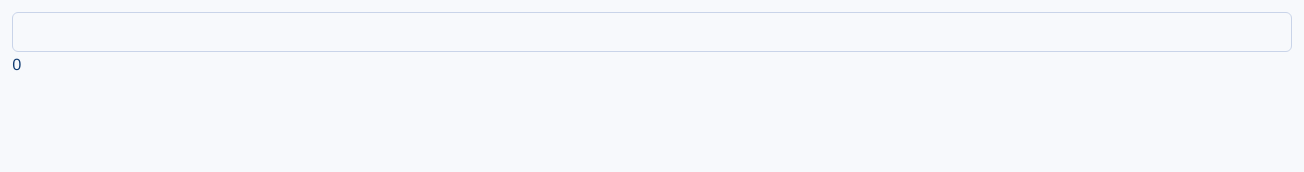
NumericInput — tecleo incremental (0722-164) › teclea un entero sin dejar texto intermedio pegado
Type "2" into the field with test id "numeric-input". click: coordinates (652, 32)
box: [12, 12, 1292, 52]
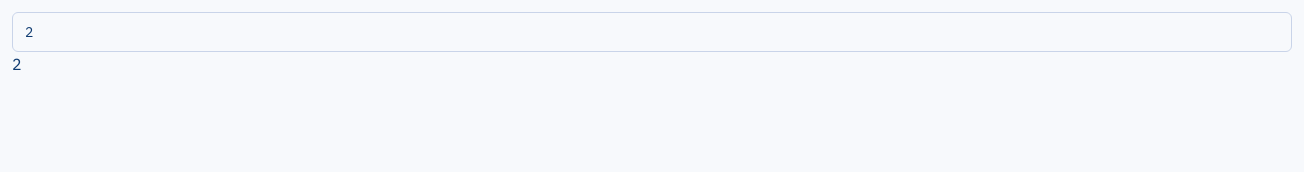
Replace the text in the field with test id "numeric-input" with "25". click: coordinates (652, 32)
box: [12, 12, 1292, 52]
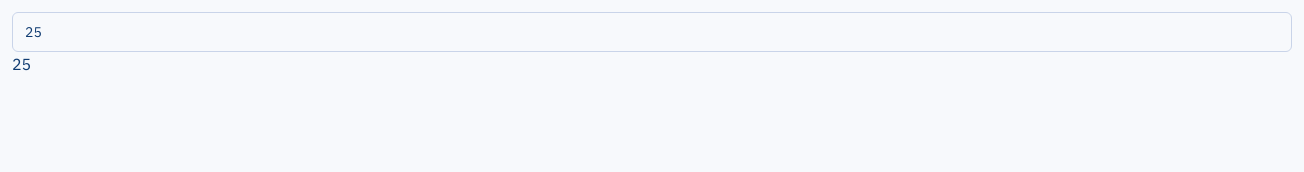
Replace the text in the field with test id "numeric-input" with "250". click: coordinates (652, 32)
box: [12, 12, 1292, 52]
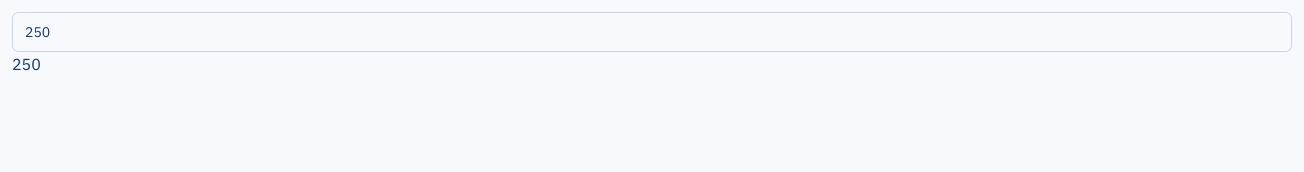
Check: the text with test id "model" reads "250", box [12, 54, 41, 74]
